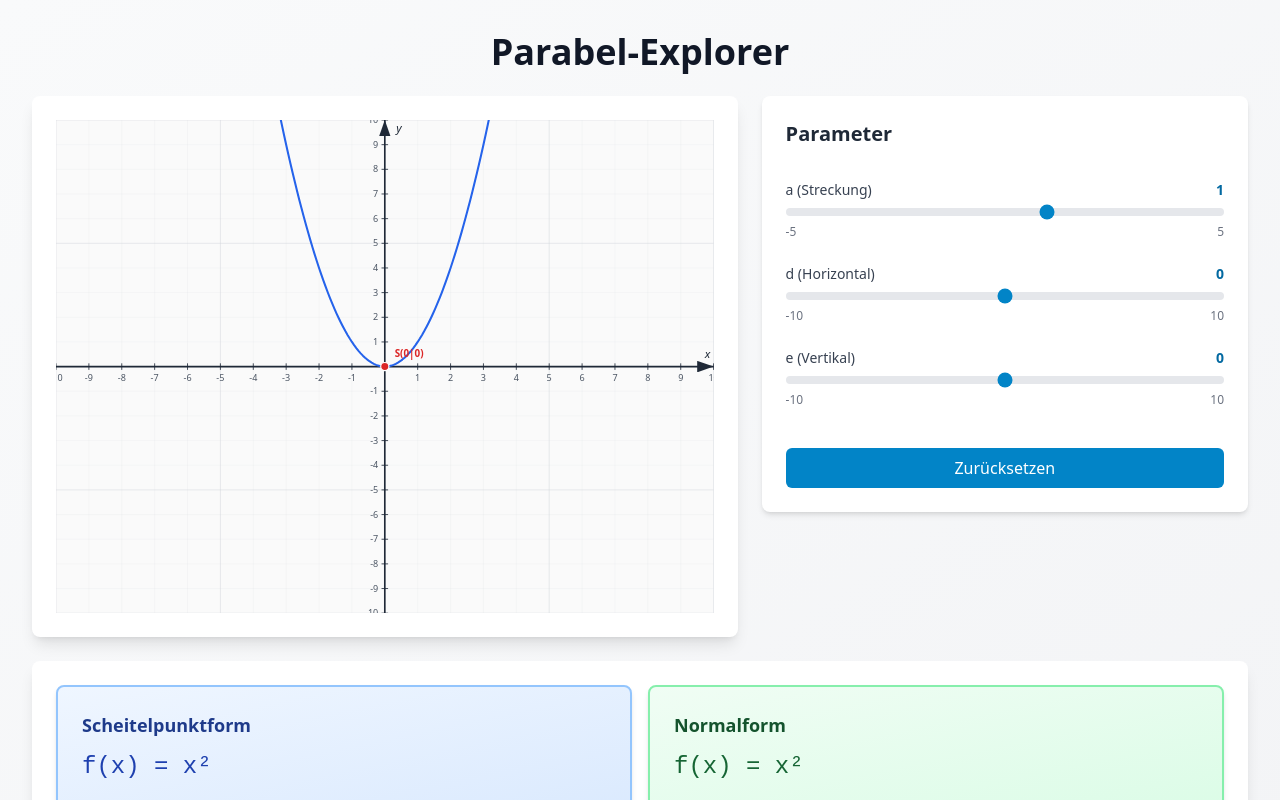
Scenario: ExplorerPage › updates parameters when slider changes
Set the slider named "d (Horizontal) parameter" to "3": (1068, 296) [786,292,1224,300]
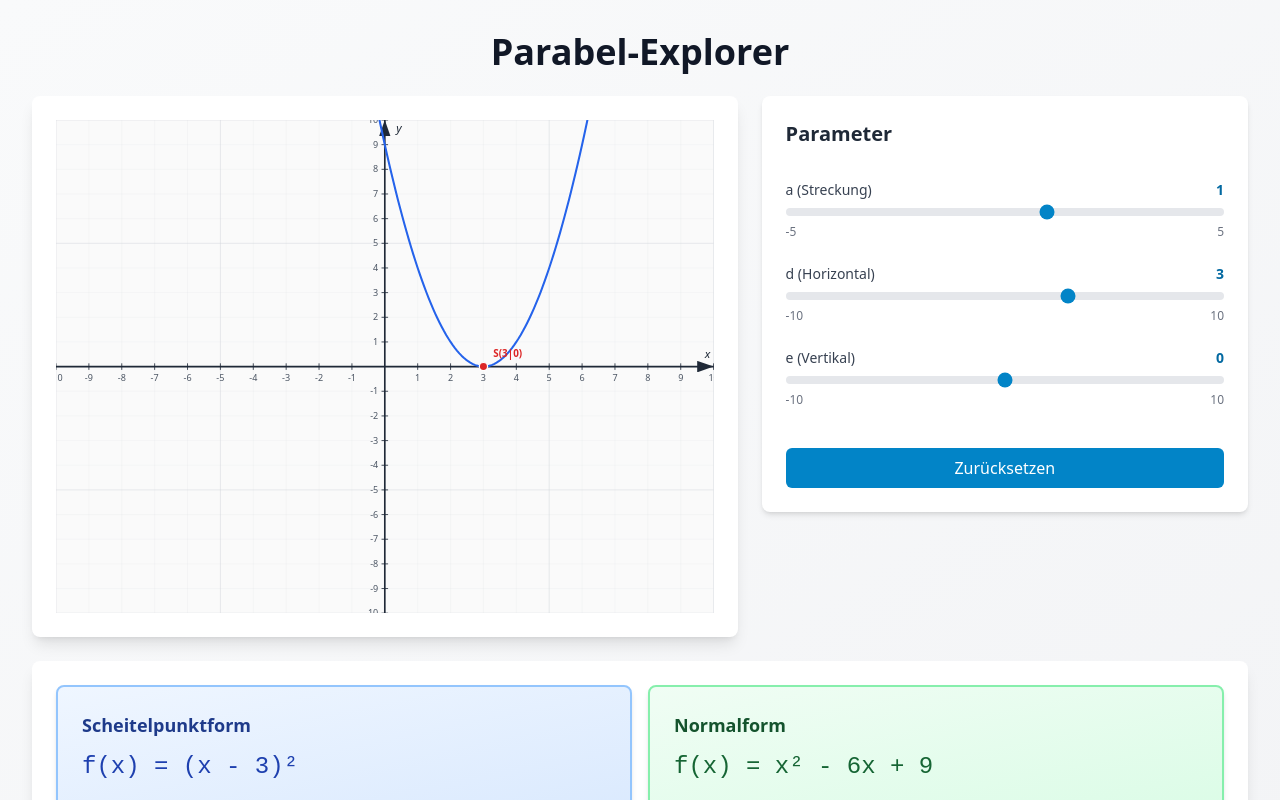
Check: the text with test id "vertex-form-text" shows "(x - 3)²", box [82,753,298,780]
